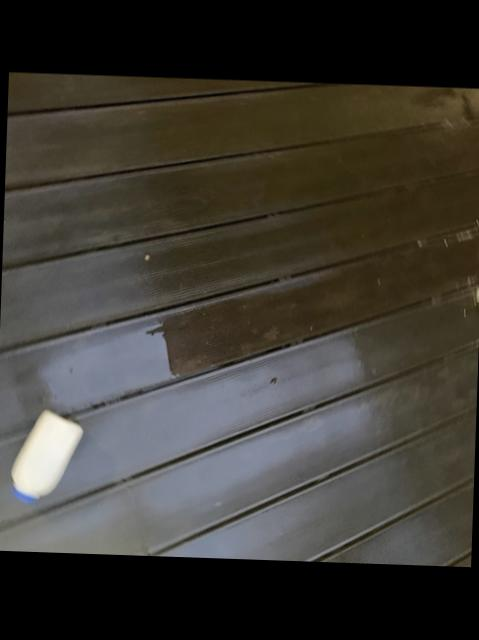plastic: (11, 412, 82, 504)
